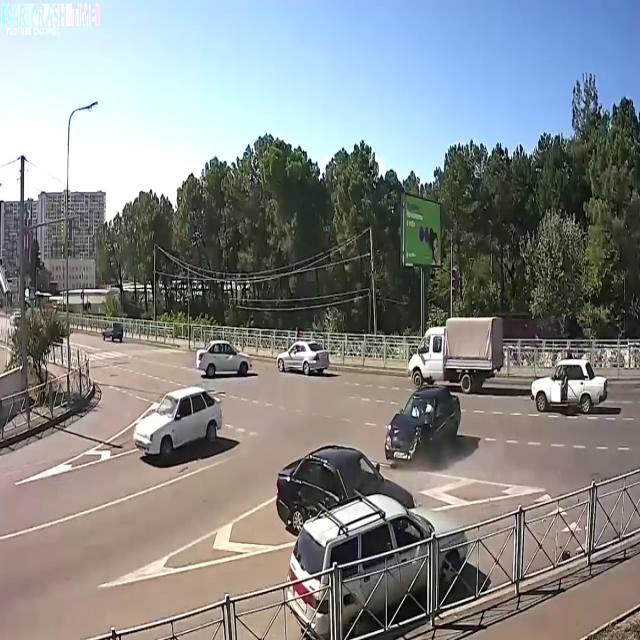Accident: (264, 368, 470, 522)
